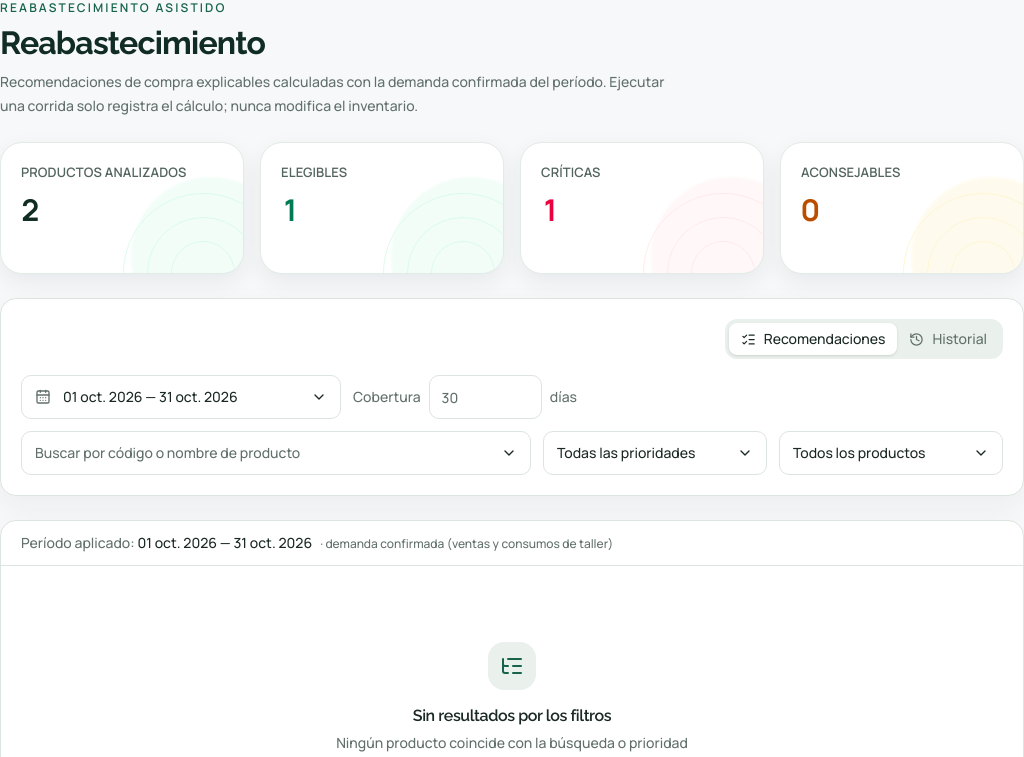
Test case: Página de reabastecimiento › muestra el estado vacío del historial sin corridas
This screenshot has width=1024, height=757.
Click the tab "Historial" at (948, 339), box 897,323 -> 999,355
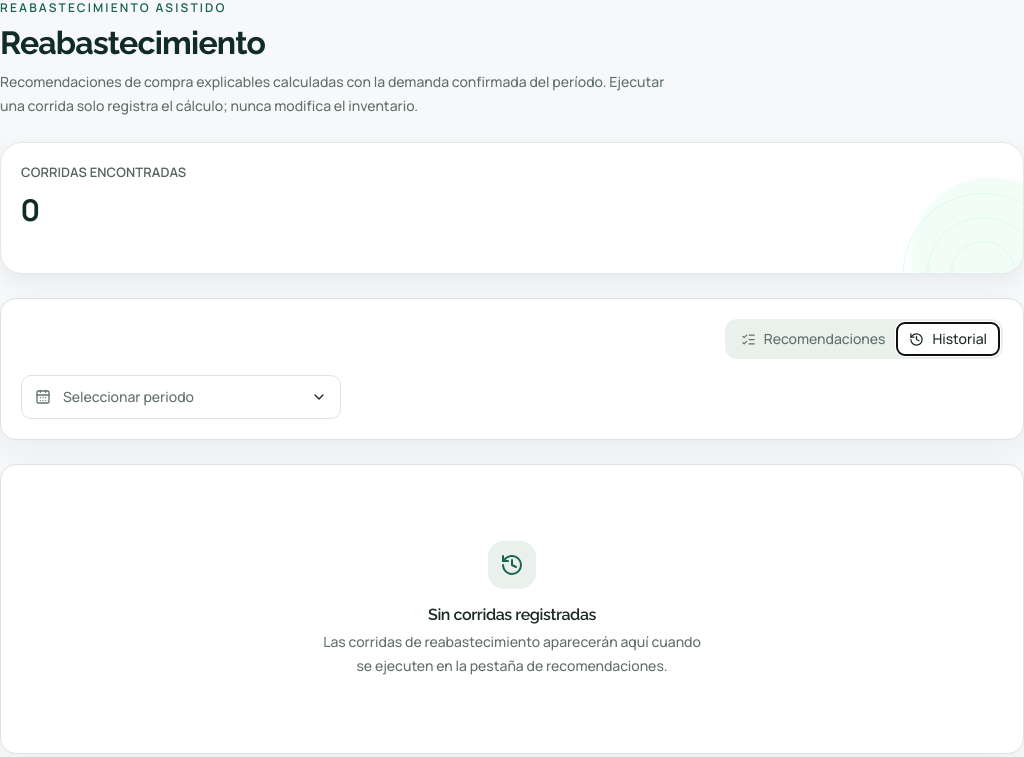
Now the heading "Sin corridas registradas" is shown, box 428,605 -> 596,626
